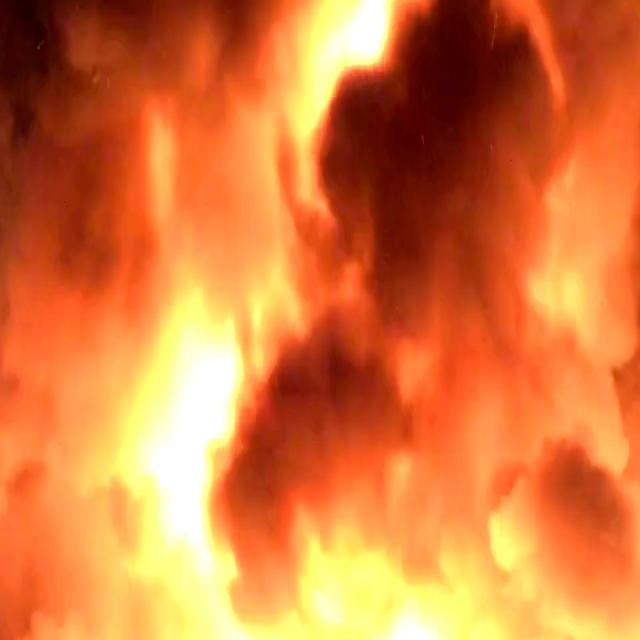fire: (363, 565, 476, 640)
smoke: (370, 30, 537, 337)
